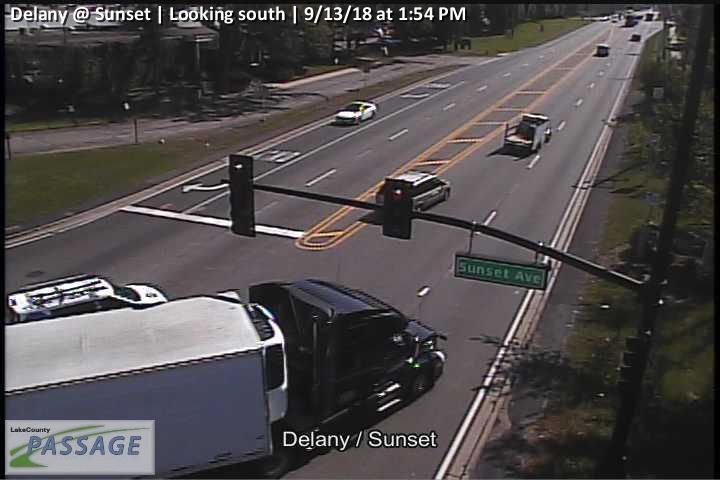SUV: (5, 273, 169, 336), (376, 169, 450, 210), (336, 102, 378, 125)
Truck: (3, 279, 448, 480), (504, 112, 551, 152)
